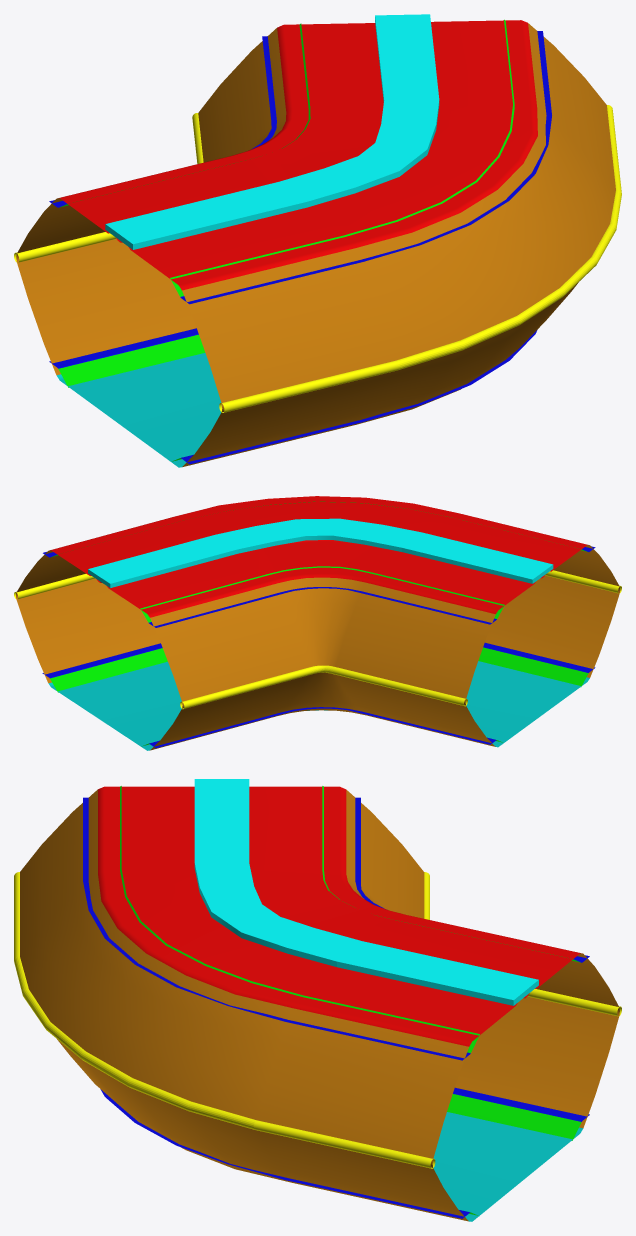
The model's file is InnerCorridorBend.fbx.
3 views of the same model, one above another, from view 1: azimuth 30°, elevation 25°; view 2: azimuth 150°, elevation 25°; view 3: azimuth 270°, elevation 25° (orthographic). The views are drawn at different scales.
Visible parts, largest first — view 1: merged_bend; view 2: merged_bend; view 3: merged_bend.
Part boxes in pixels (box(x1,y1,x2,y2)): merged_bend: box(14, 14, 621, 467); merged_bend: box(14, 496, 621, 750); merged_bend: box(14, 779, 621, 1221).
Bounding box in the file's own units: 1375 × 419 × 1222.
